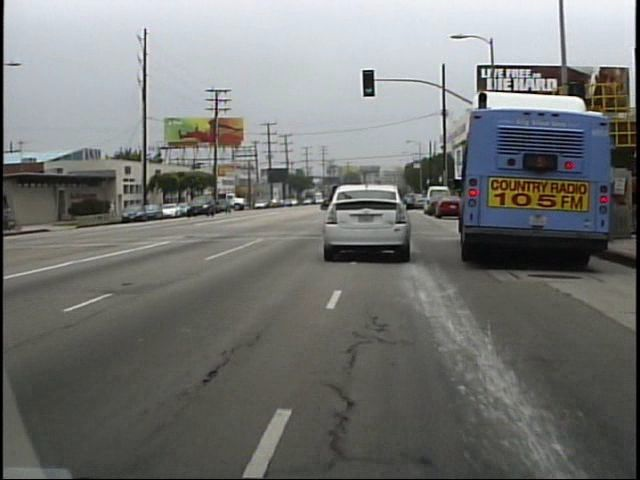person: (105, 195, 118, 221)
